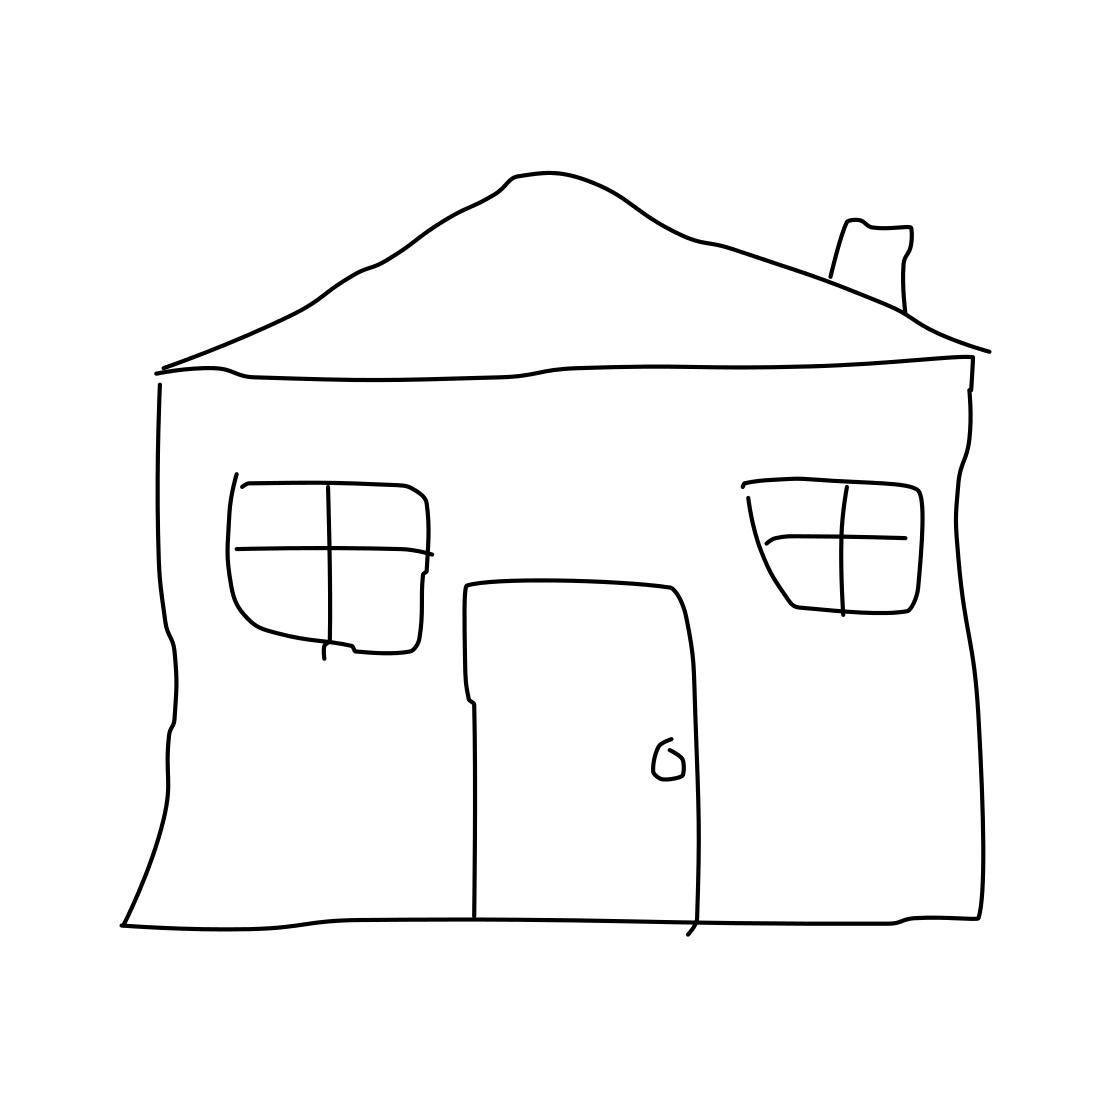House: (112, 135, 1045, 977)
